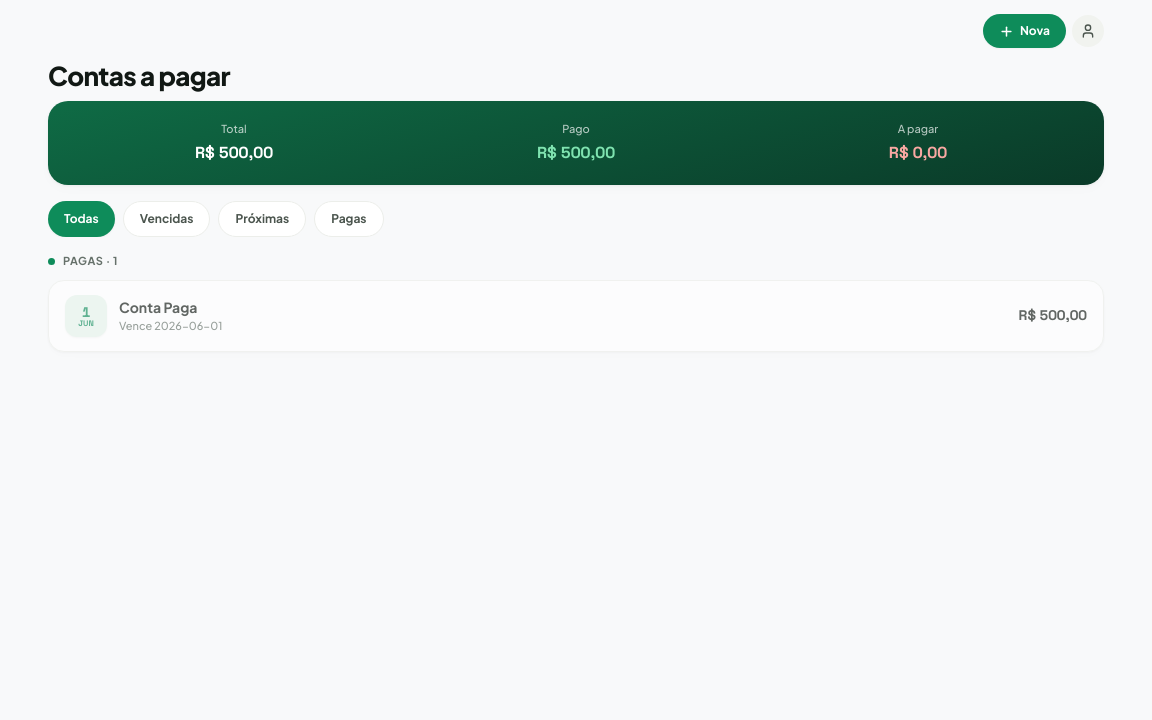
Test: PayablesPage › with data › detail sheet for a paid payable shows editable fields but no mark-paid action
Click the text "Conta Paga" at (158, 307), box [119, 298, 198, 316]
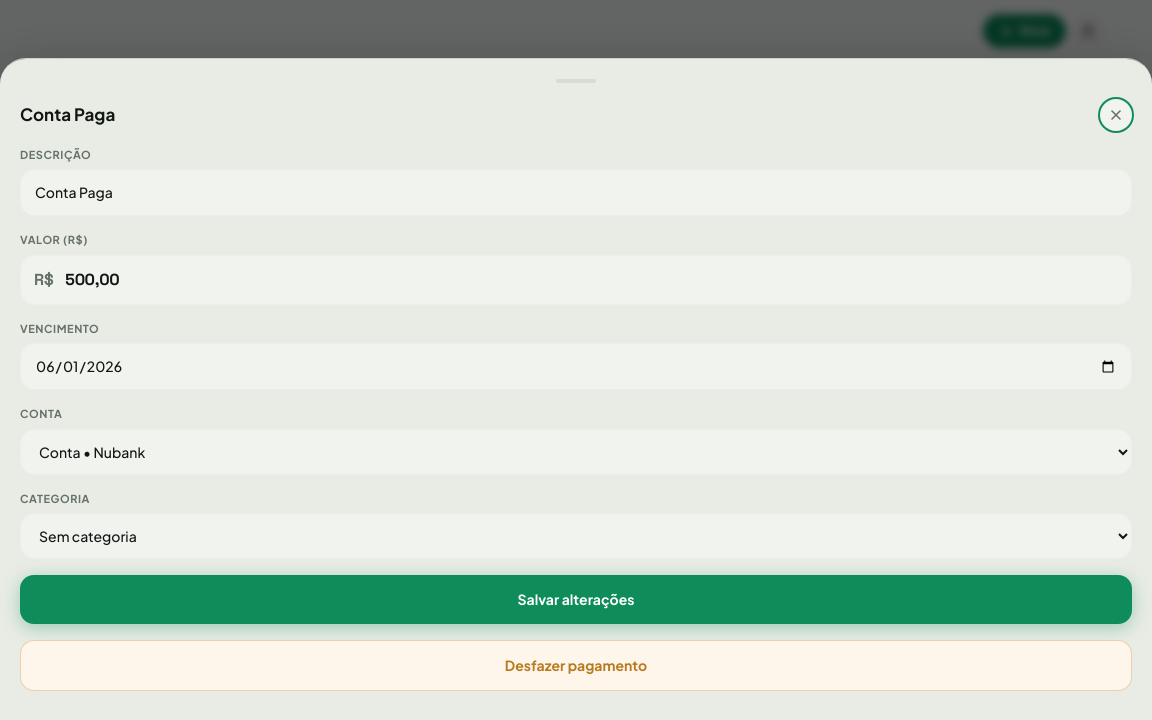
Check: the dialog is shown
Check: the button "Salvar alterações" is shown, box [20, 575, 1132, 624]
